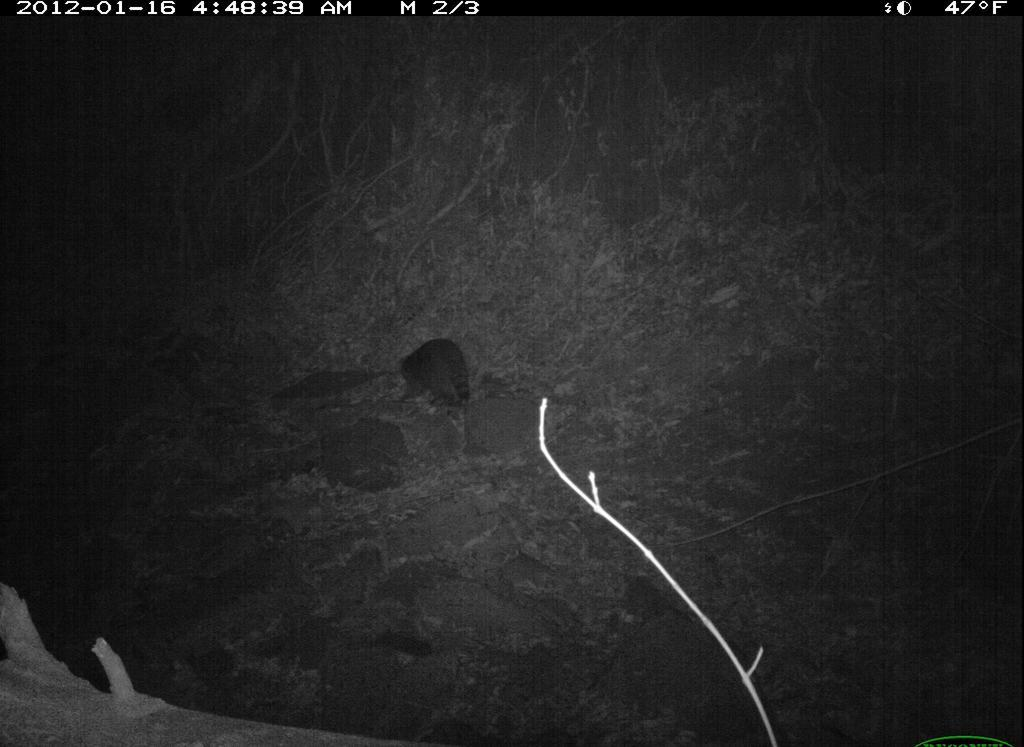raccoon: (387, 328, 483, 419)
